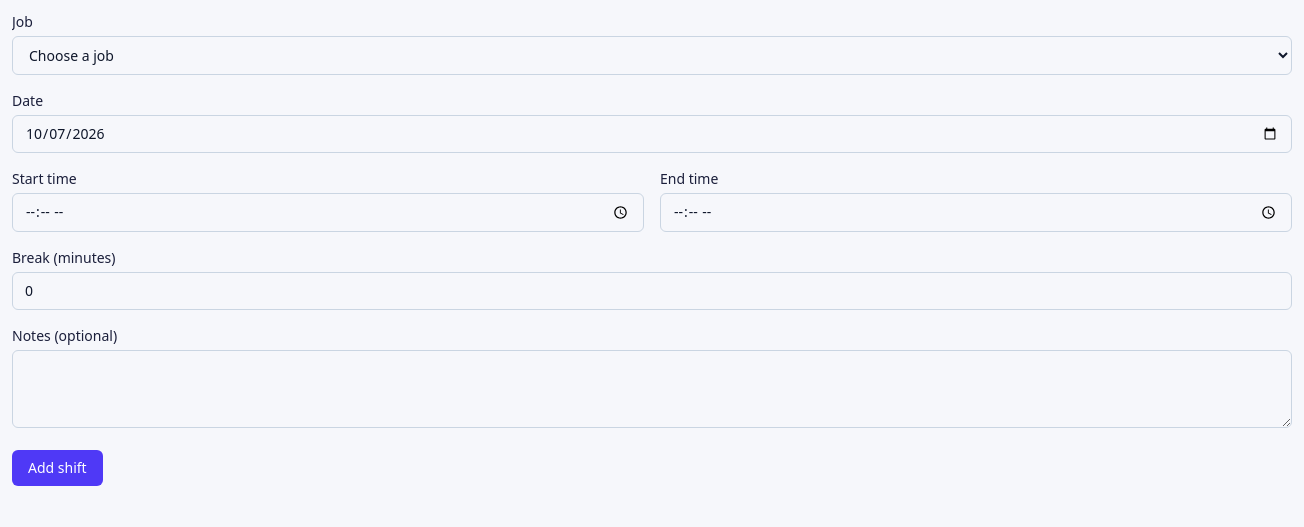
Test case: ShiftForm › rejects a break that is not a whole number
Select "Warehouse" in the dropdown labelled "Job" at (652, 56), box [12, 36, 1292, 75]
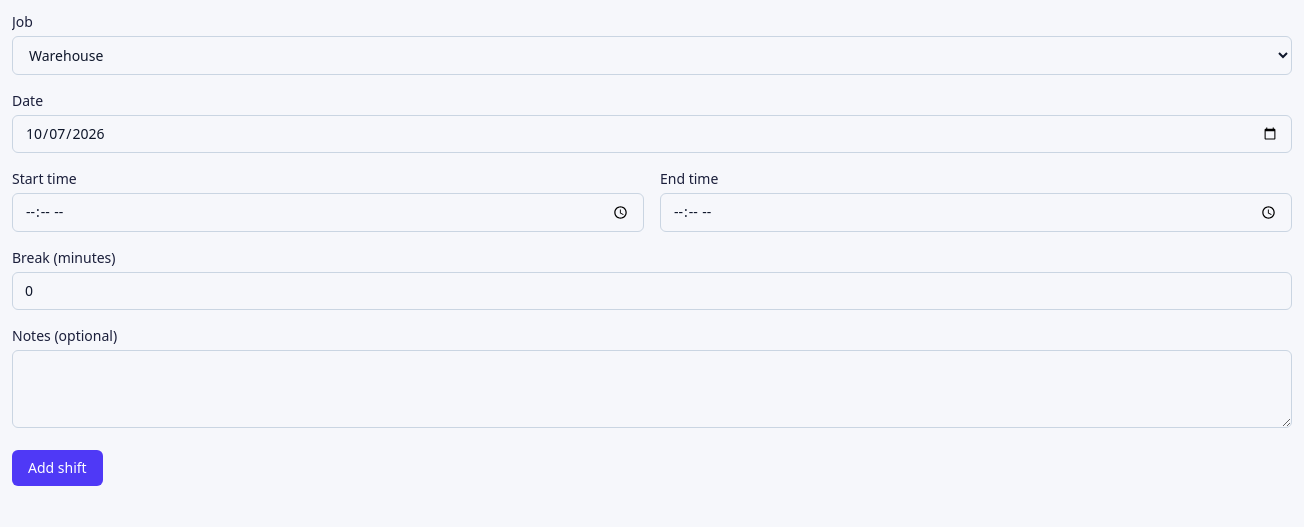
Type "09:00" into the time field labelled "Start time" at (328, 212), box [12, 193, 644, 232]
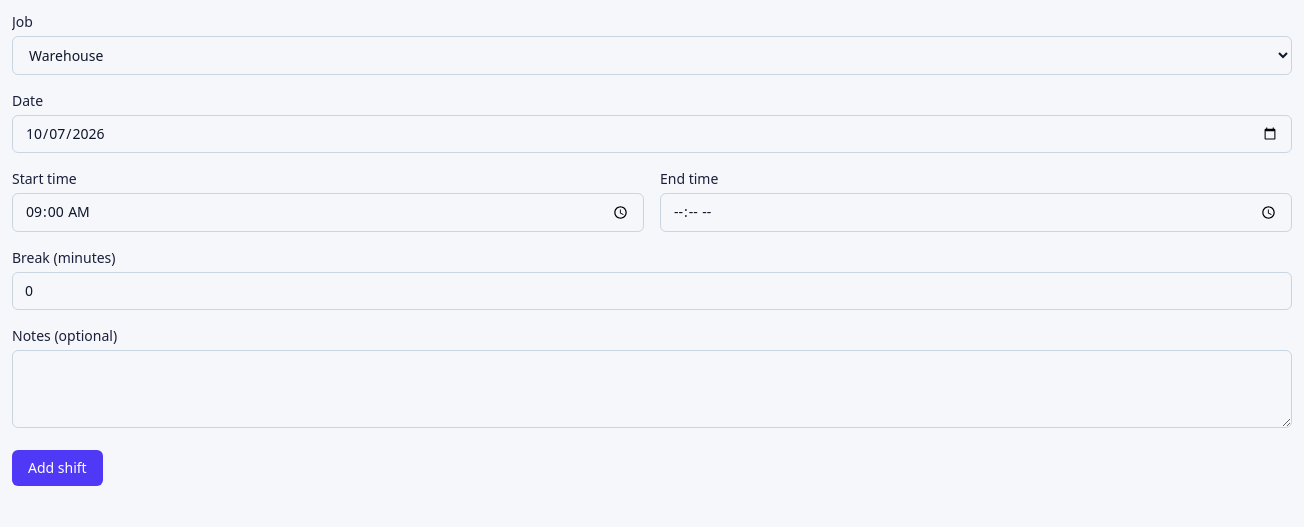
Type "17:00" into the time field labelled "End time" at (976, 212), box [660, 193, 1292, 232]
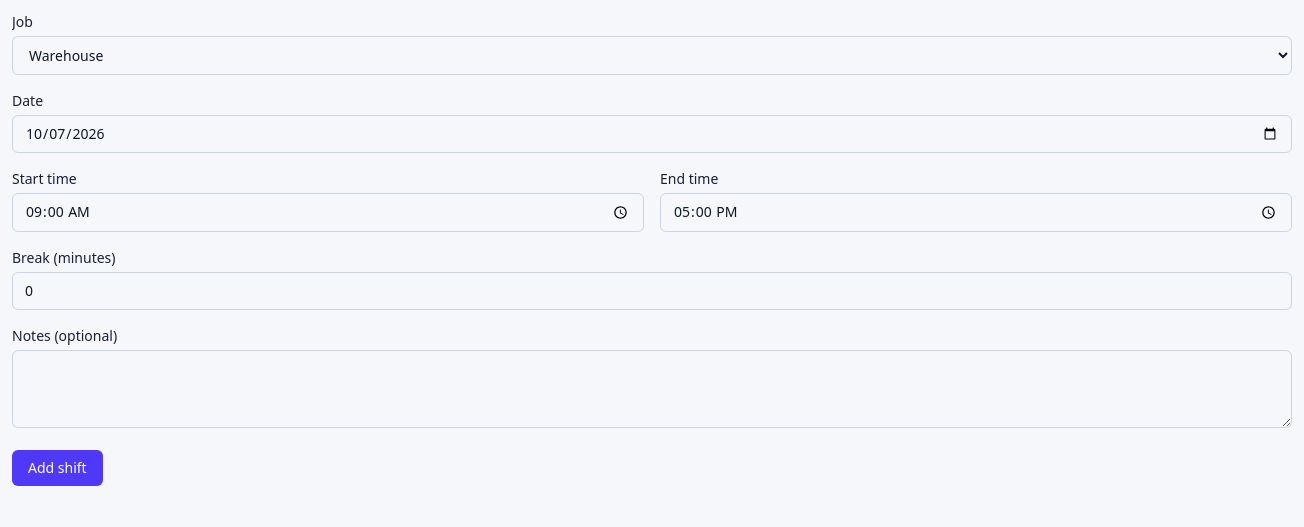
Replace the text in the number field labelled "Break (minutes)" with "1.5" at (652, 291), box [12, 272, 1292, 310]
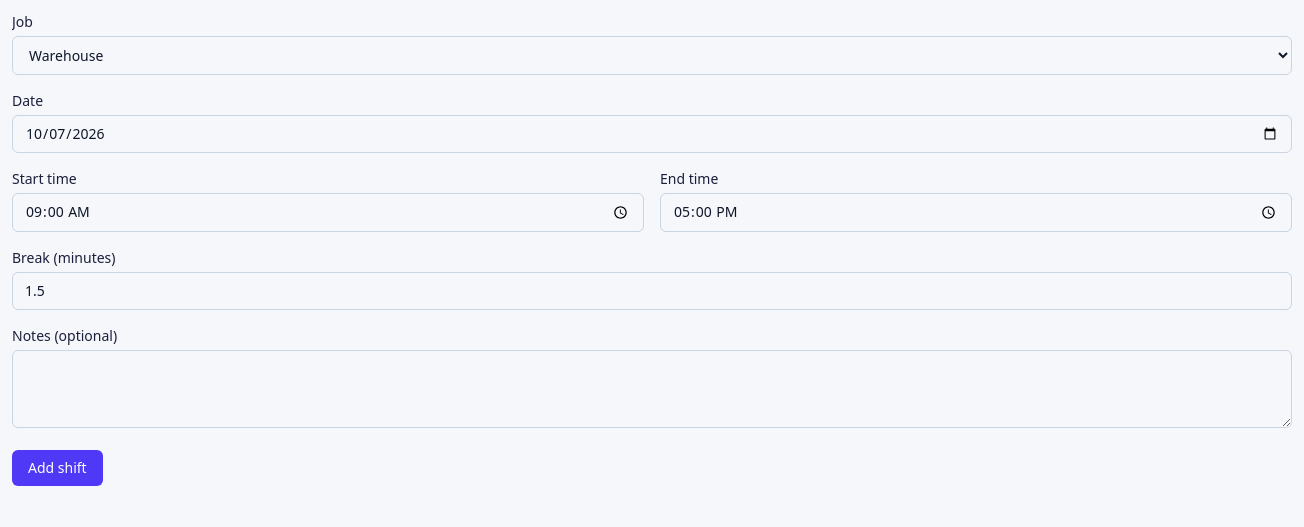
Click the button "Add shift" at (57, 468), box [12, 450, 103, 486]
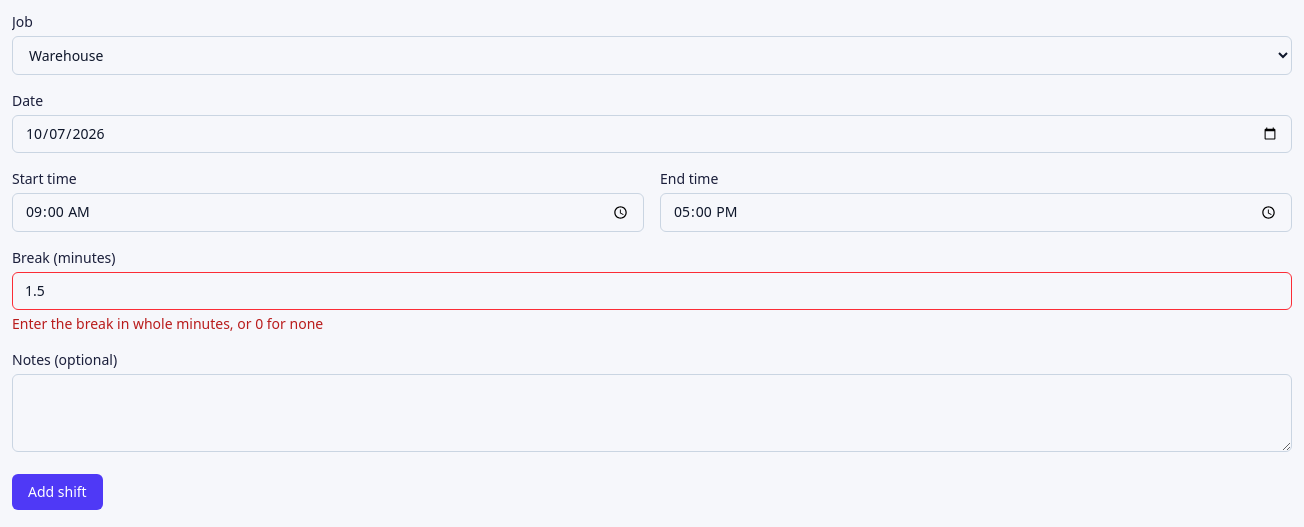
Expected: the text "Enter the break in whole minutes, or 0 for none" is shown, [12, 314, 323, 333]
